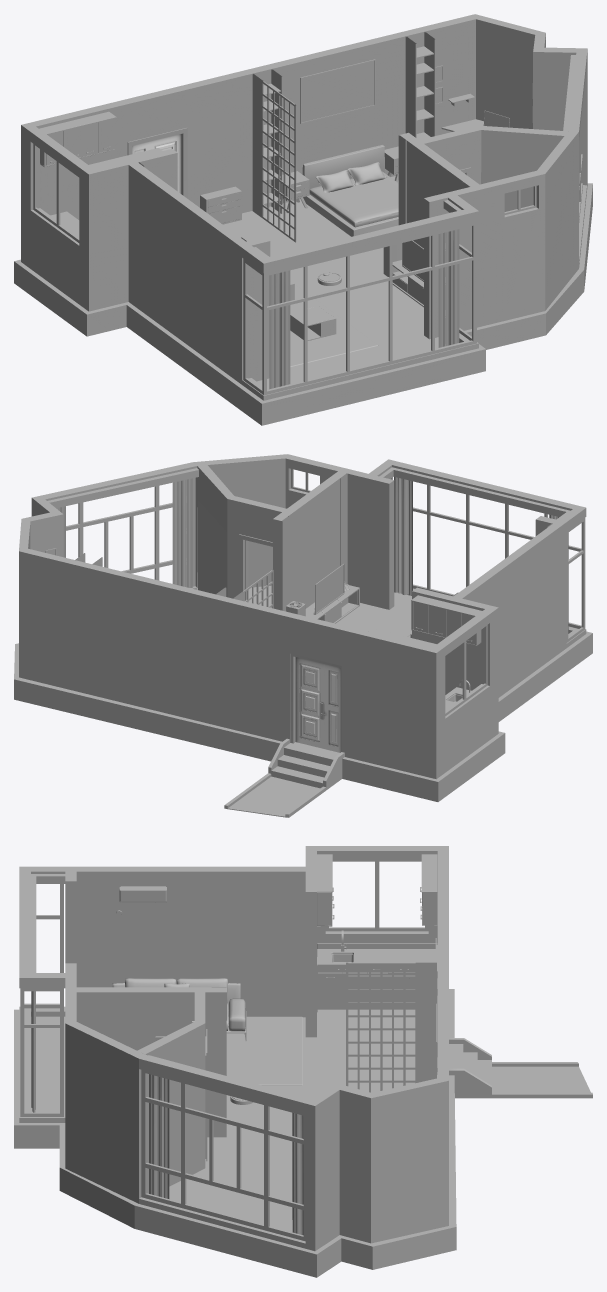
3 renders of one model, top to bottom at view 1: azimuth 30°, elevation 25°; view 2: azimuth 150°, elevation 25°; view 3: azimuth 270°, elevation 25°, orthographic. The views are drawn at different scales.
Parts seen in each view (by area): view 1: polySurface177, polySurface180, polySurface189, XiaoMi_156, polySurface171, polySurface190, ChuangKuang, Chuang, polySurface185, XiaoMi_181, MuGui, polySurface187 (+14 smaller); view 2: polySurface189, polySurface180, polySurface177, XiaoMi_156, ChuangKuang, polySurface187, polySurface185, XiaoMi_147, KongQiJingHuaQi, ChuangLian_ZhuangShi, ChuangLian, ChuangLian1 (+7 smaller); view 3: polySurface177, polySurface180, polySurface171, XiaoMi_156, ChuangKuang, polySurface187, XiaoMi_147, polySurface185, DiTan, GuiZi_GuiTi, MuZhaLan, Wood_ZhuangShi (+12 smaller).
Part boxes in pixels (box(x1,y1,x2,y2)): polySurface177: box(258, 14, 587, 400); polySurface180: box(26, 126, 270, 396); polySurface189: box(21, 14, 475, 265); XiaoMi_156: box(14, 183, 592, 425); polySurface171: box(223, 176, 438, 389); polySurface190: box(272, 36, 405, 174); ChuangKuang: box(33, 105, 582, 395); Chuang: box(302, 145, 398, 236); polySurface185: box(419, 125, 567, 211); XiaoMi_181: box(300, 59, 375, 123); MuGui: box(252, 69, 282, 217); polySurface187: box(400, 132, 479, 248); polySurface189: box(19, 548, 441, 779); polySurface180: box(412, 509, 581, 775); polySurface177: box(19, 454, 586, 636); XiaoMi_156: box(14, 631, 592, 801); ChuangKuang: box(66, 469, 585, 715); polySurface187: box(273, 471, 346, 610); polySurface185: box(197, 465, 286, 598); XiaoMi_147: box(224, 738, 344, 817); KongQiJingHuaQi: box(286, 601, 341, 752); ChuangLian_ZhuangShi: box(47, 467, 570, 519); ChuangLian: box(172, 478, 192, 587); ChuangLian1: box(394, 477, 412, 595); polySurface177: box(19, 866, 448, 1251); polySurface180: box(31, 846, 437, 1031); polySurface171: box(31, 1009, 437, 1232); XiaoMi_156: box(14, 989, 456, 1277); ChuangKuang: box(20, 861, 428, 1241); polySurface187: box(76, 987, 226, 1132); XiaoMi_147: box(449, 1038, 592, 1098); polySurface185: box(137, 992, 205, 1192); DiTan: box(226, 1016, 302, 1085); GuiZi_GuiTi: box(317, 854, 415, 1012); MuZhaLan: box(346, 962, 415, 1092); Wood_ZhuangShi: box(76, 871, 305, 1017).
Bounding box in the file's own units: 1098 × 325 × 1012.
